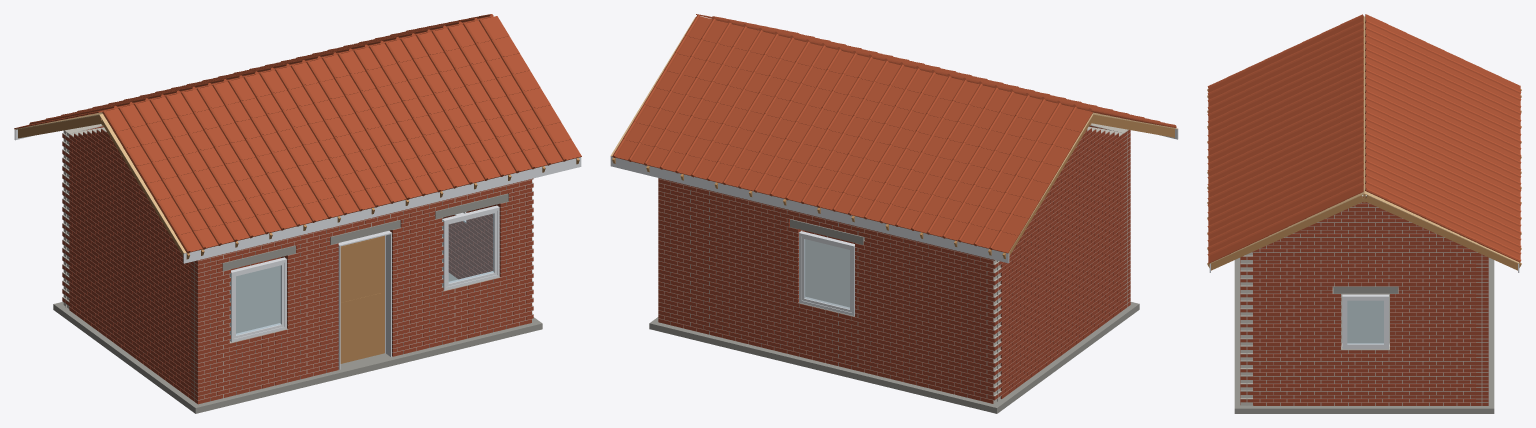
The model's file is house_brick_vn.glb.
The picture shows the model from 3 angles, left to right: view 1: azimuth 30°, elevation 25°; view 2: azimuth 150°, elevation 25°; view 3: azimuth 270°, elevation 25°; orthographic projection. The views are drawn at different scales.
Visible parts, largest first — view 1: house_brick_vn, slab_door_front_2, sash_window_front_1, sash_window_front_3; view 2: house_brick_vn, sash_window_back_1; view 3: house_brick_vn, sash_window_left_1.
Boxes of the visible parts, x1,y1,x2,y2 form: house_brick_vn: (14,14,581,413); slab_door_front_2: (340,235,384,363); sash_window_front_1: (234,262,284,338); sash_window_front_3: (446,210,496,286); house_brick_vn: (610,14,1178,413); sash_window_back_1: (801,236,851,312); house_brick_vn: (1207,14,1521,413); sash_window_left_1: (1345,299,1386,346).
Size of the model in its own units: 7.1 by 4.4 by 5.32.
